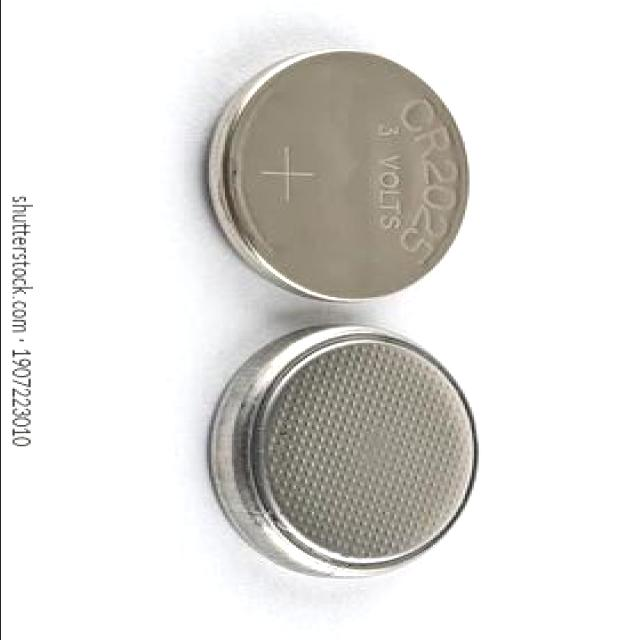COIN: (201, 321, 485, 584), (197, 47, 475, 307)
